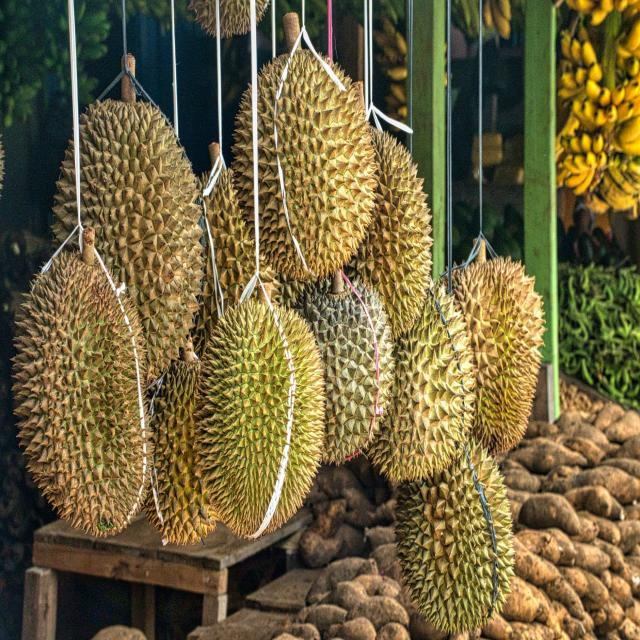mature: (10, 251, 158, 544), (80, 103, 204, 387), (200, 308, 323, 539), (251, 49, 375, 276), (282, 263, 407, 472), (392, 470, 520, 631), (368, 276, 467, 480), (446, 256, 542, 451)
